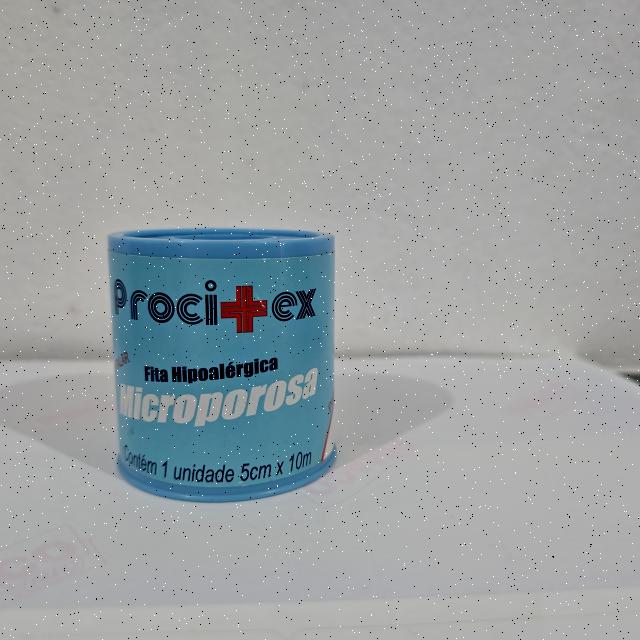procitex: (104, 225, 342, 508)
